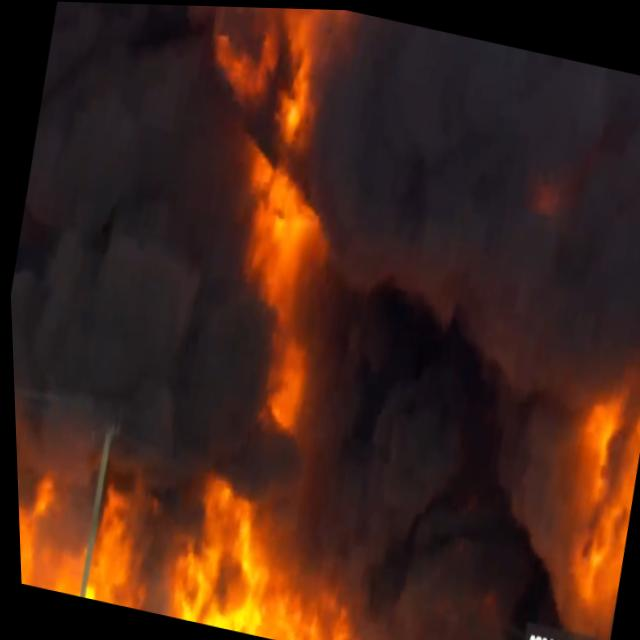Fire: (12, 403, 361, 640)
